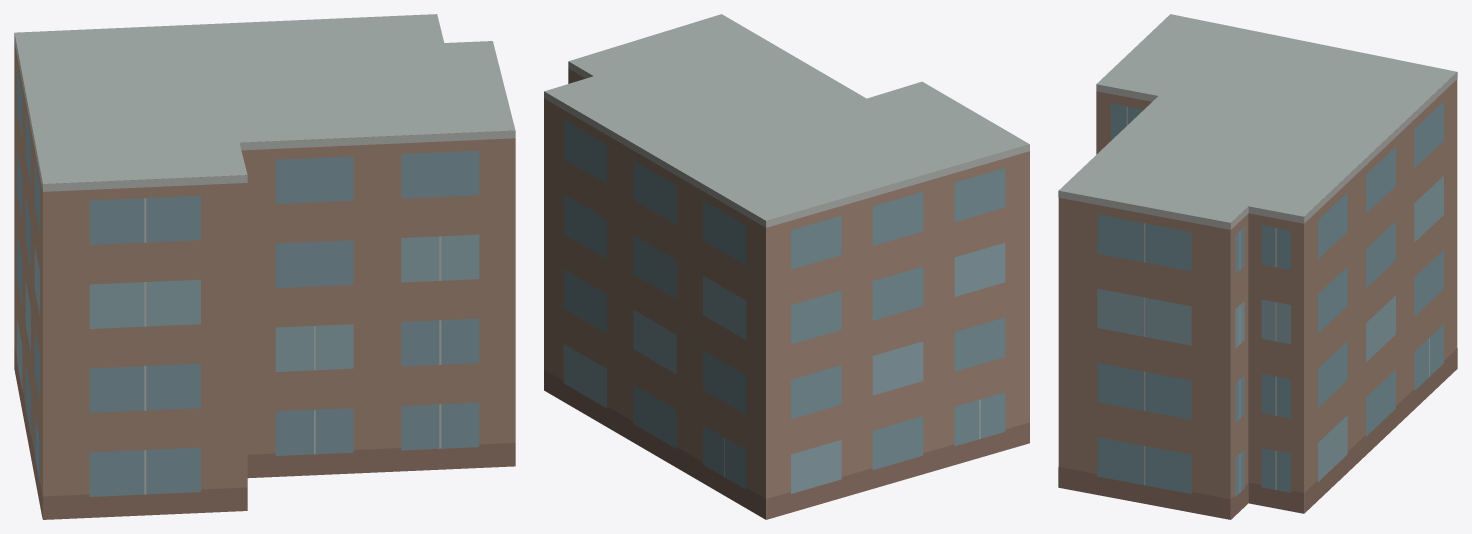
File: survey-upis-32955914.glb
3 renders of one model, left to right at view 1: azimuth 30°, elevation 25°; view 2: azimuth 150°, elevation 25°; view 3: azimuth 270°, elevation 25°, orthographic. The views are drawn at different scales.
Visible parts, largest first — view 1: survey-upis-32955914.tmp; view 2: survey-upis-32955914.tmp; view 3: survey-upis-32955914.tmp.
Boxes of the visible parts, x1,y1,x2,y2 form: survey-upis-32955914.tmp: [14, 14, 515, 519]; survey-upis-32955914.tmp: [544, 14, 1029, 519]; survey-upis-32955914.tmp: [1058, 14, 1457, 519].
Bounding box in the file's own units: 15.7 × 10.4 × 12.67.
